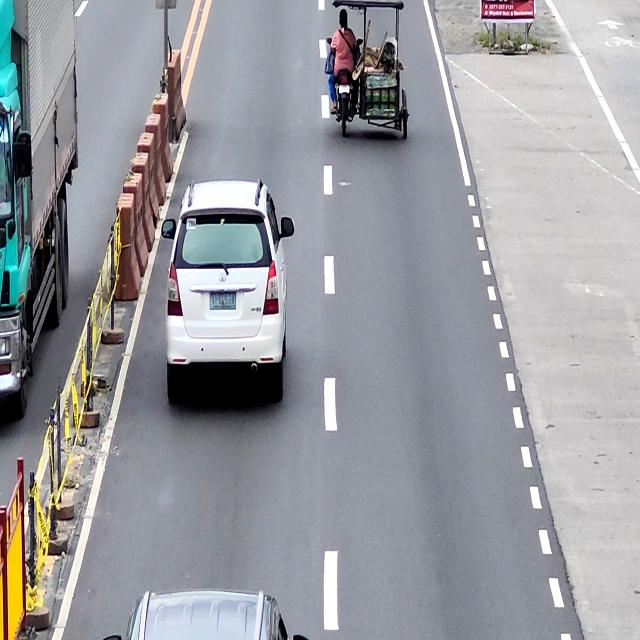Car: (161, 180, 296, 406), (102, 586, 311, 640)
License-Plate: (209, 290, 237, 310), (339, 84, 350, 93)
Tricycle: (325, 0, 409, 134)
